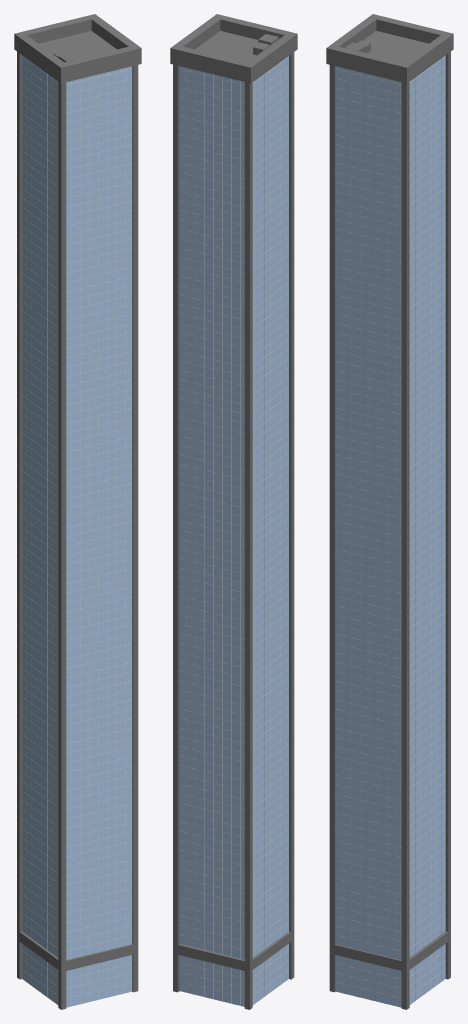
The model's file is Skyscraper.fbx.
The picture shows the model from 3 angles, left to right: view 1: azimuth 30°, elevation 25°; view 2: azimuth 150°, elevation 25°; view 3: azimuth 330°, elevation 25°; orthographic projection.
Visible parts, largest first — view 1: Cube, Cube.003, Cube.002, Cube.001, Cube.005, Cube.008, Cube.009; view 2: Cube, Cube.005, Cube.004, Cube.001, Cube.003, Cube.006, Cube.009; view 3: Cube, Cube.002, Cube.003, Cube.001, Cube.004, Cube.008, Cube.007.
Boxes of the visible parts, x1=… form: Cube: x1=22, y1=55, x2=132, y2=1007; Cube.003: x1=58, y1=82, x2=66, y2=1009; Cube.002: x1=132, y1=65, x2=138, y2=992; Cube.001: x1=14, y1=14, x2=141, y2=83; Cube.005: x1=17, y1=51, x2=22, y2=979; Cube.008: x1=65, y1=944, x2=133, y2=971; Cube.009: x1=19, y1=931, x2=58, y2=969; Cube: x1=179, y1=56, x2=288, y2=1006; Cube.005: x1=244, y1=82, x2=252, y2=1009; Cube.004: x1=173, y1=64, x2=179, y2=992; Cube.001: x1=170, y1=14, x2=297, y2=83; Cube.003: x1=289, y1=52, x2=294, y2=979; Cube.006: x1=176, y1=943, x2=244, y2=970; Cube.009: x1=252, y1=931, x2=291, y2=969; Cube: x1=335, y1=55, x2=445, y2=1007; Cube.002: x1=401, y1=82, x2=409, y2=1009; Cube.003: x1=329, y1=65, x2=335, y2=992; Cube.001: x1=326, y1=14, x2=453, y2=83; Cube.004: x1=445, y1=51, x2=450, y2=979; Cube.008: x1=333, y1=944, x2=402, y2=970; Cube.007: x1=408, y1=931, x2=448, y2=970.
Size of the model in its own units: 1795 by 20050 by 1795.
